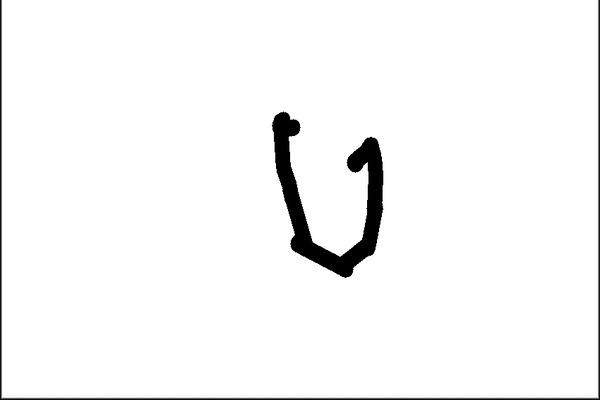U: (263, 101, 395, 284)
